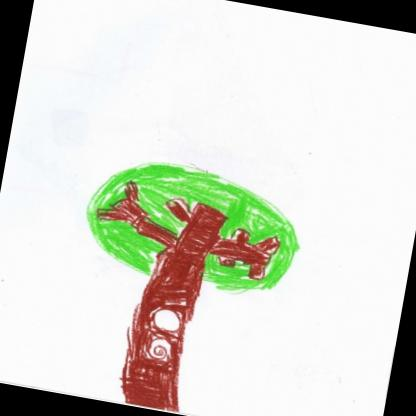branch_cut: (90, 175, 285, 283)
crown_mushroom: (78, 153, 310, 301)
knot: (148, 305, 184, 332), (145, 335, 175, 363)
trunk_reflex: (116, 285, 198, 390)
